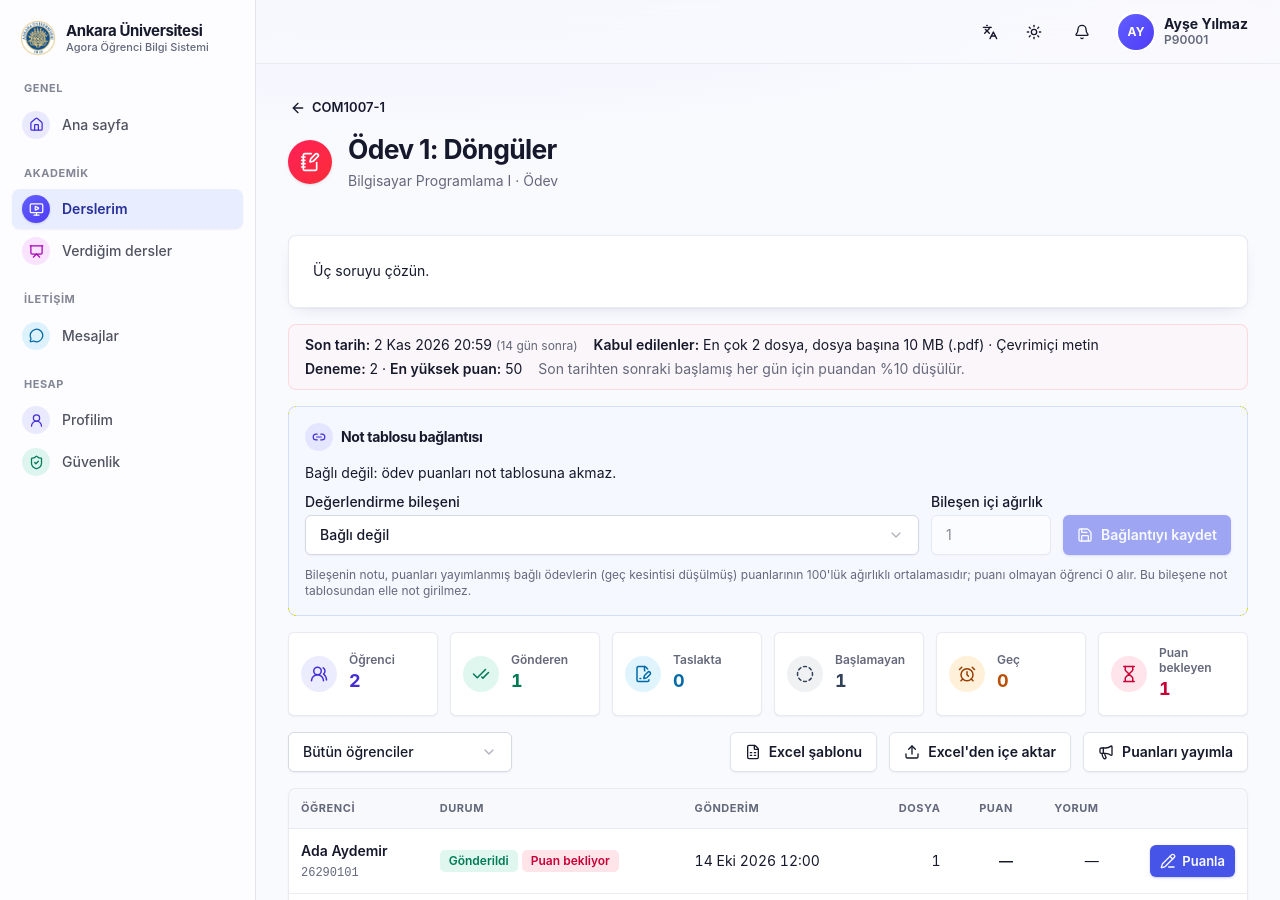
Test: ödev (öğretim elemanı) › ödev bir değerlendirme bileşenine ağırlıkla bağlanır
Check: the text "Bağlı değil: ödev puanları not tablosuna akmaz." is shown, box x1=305 y1=464 x2=616 y2=481
Click the dropdown named "Değerlendirme bileşeni" at (355, 534), box x1=305 y1=515 x2=919 y2=555
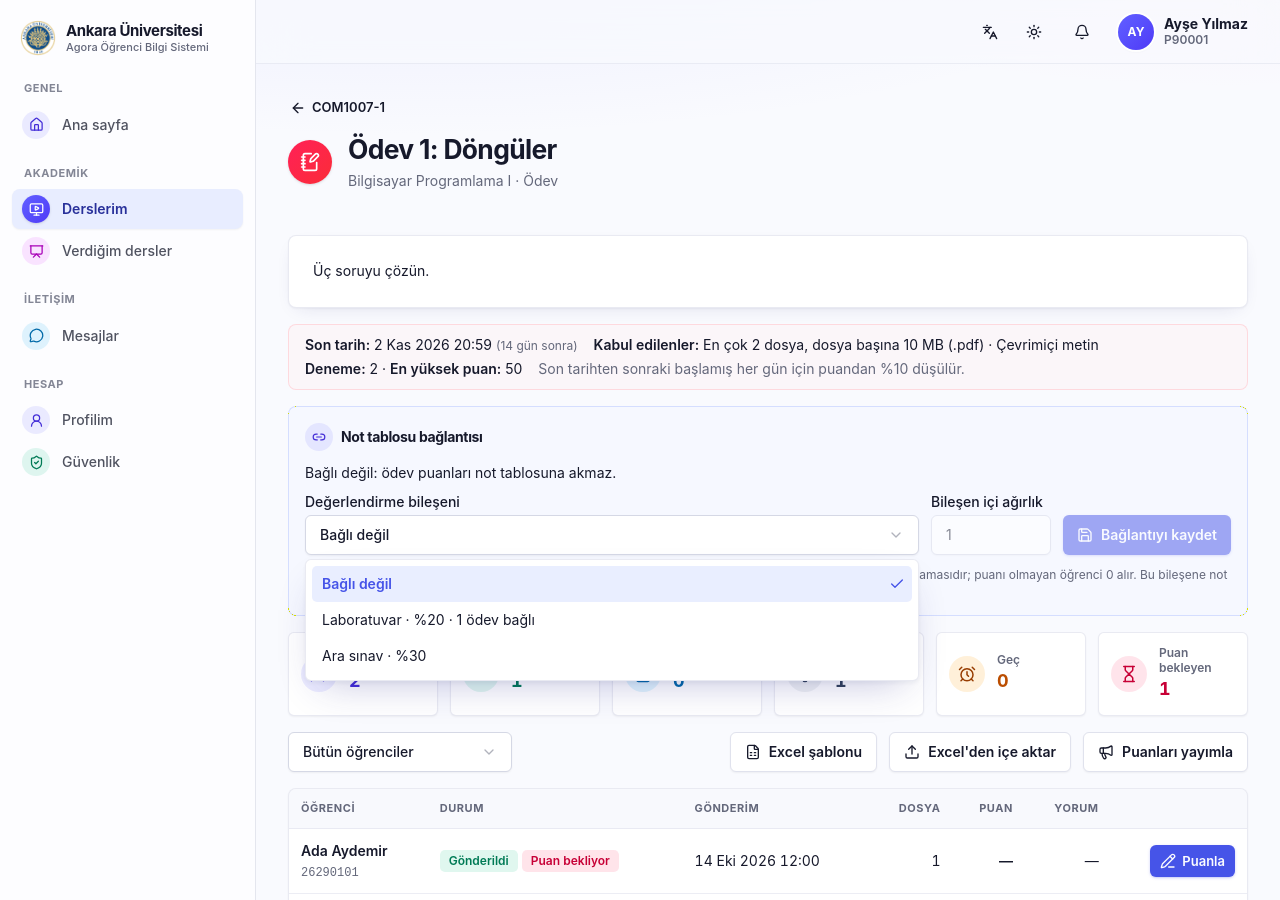
Click the option "Laboratuvar · %20 · 1 ödev bağlı" at (428, 620), box x1=322 y1=611 x2=535 y2=628
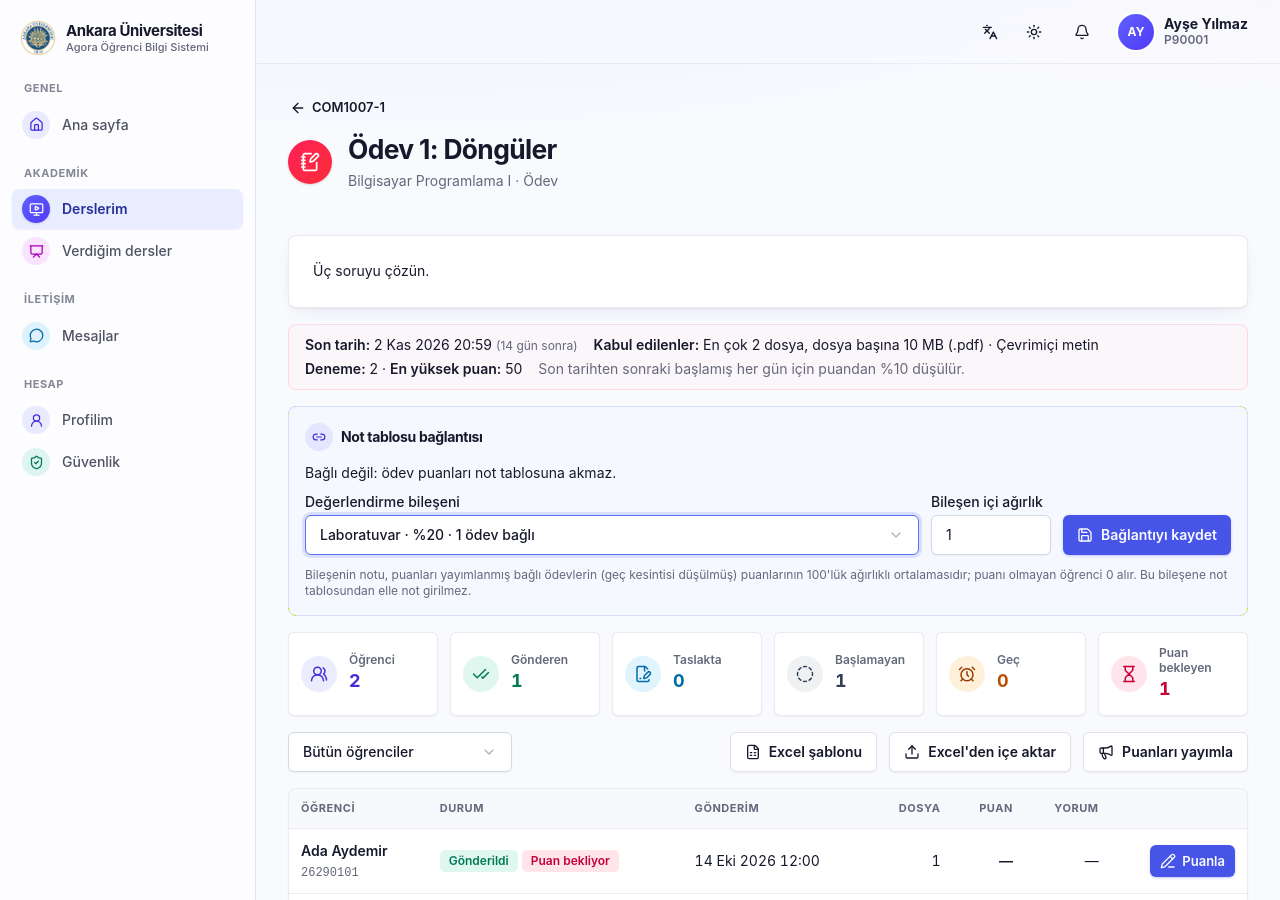
Replace the text in the field labelled "Bileşen içi ağırlık" with "2" at (991, 535), box x1=931 y1=515 x2=1051 y2=555
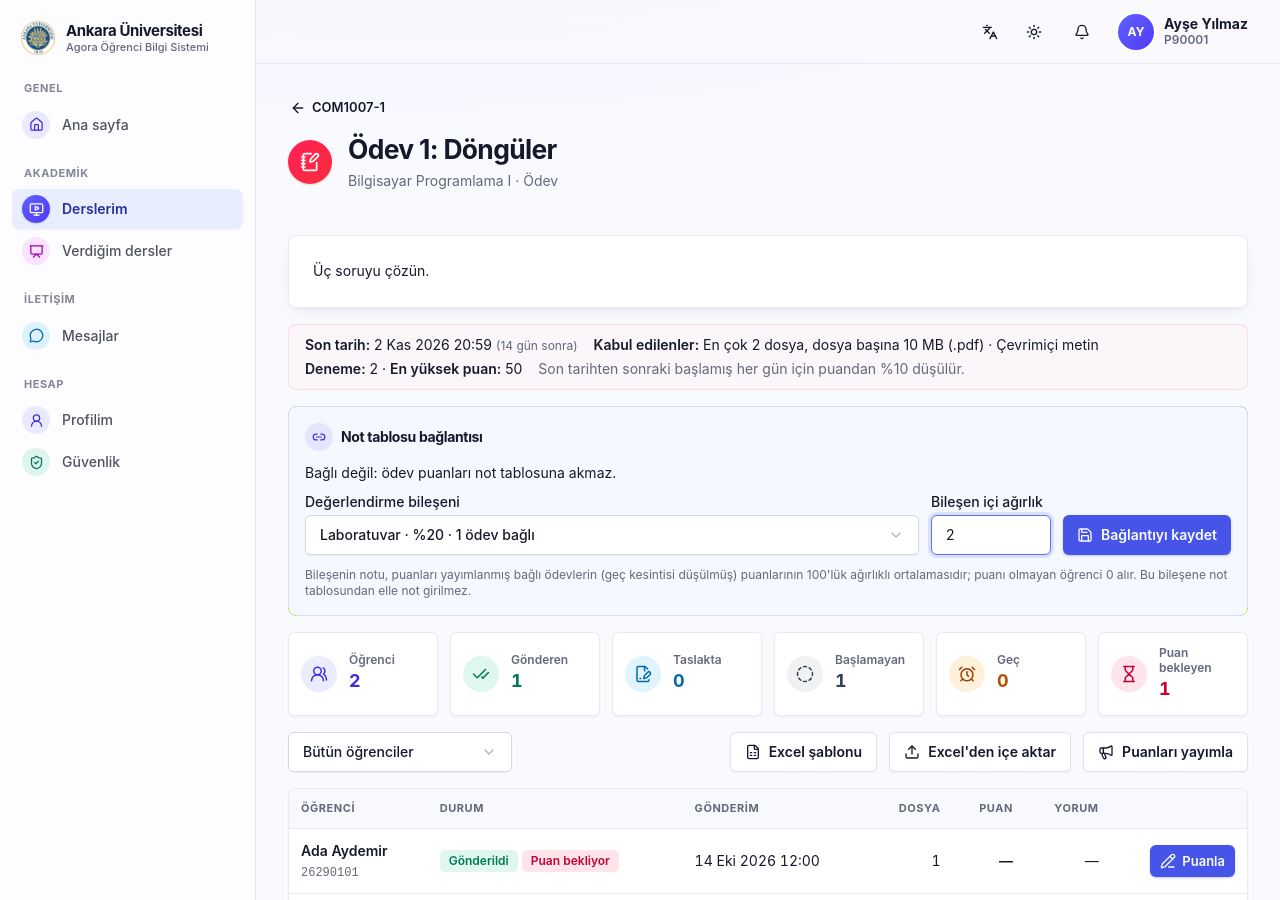
Click the button "Bağlantıyı kaydet" at (1147, 535), box x1=1063 y1=515 x2=1231 y2=555
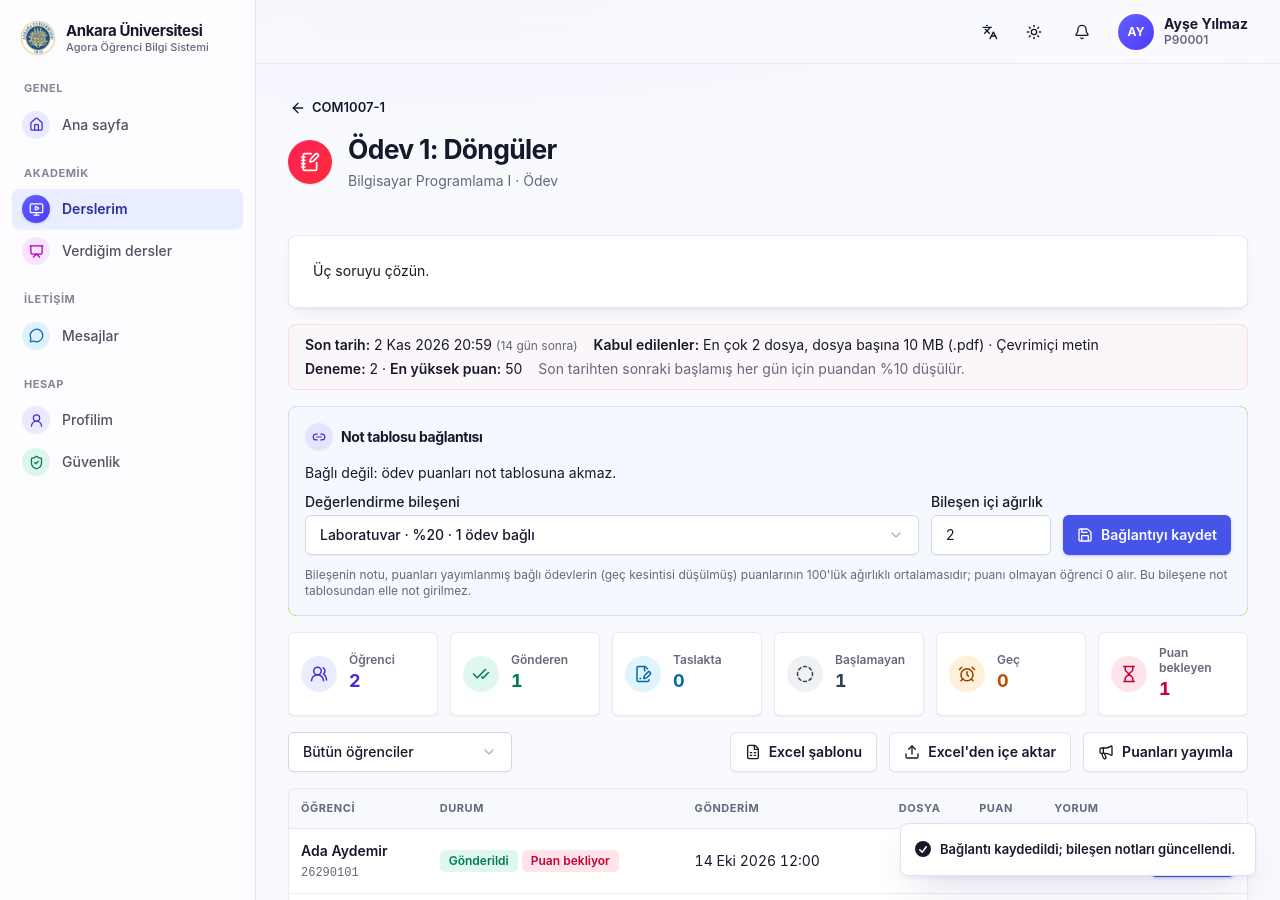
Check: the text "Bağlantı kaydedildi; bileşen notları güncellendi." is shown, box x1=940 y1=840 x2=1236 y2=859
